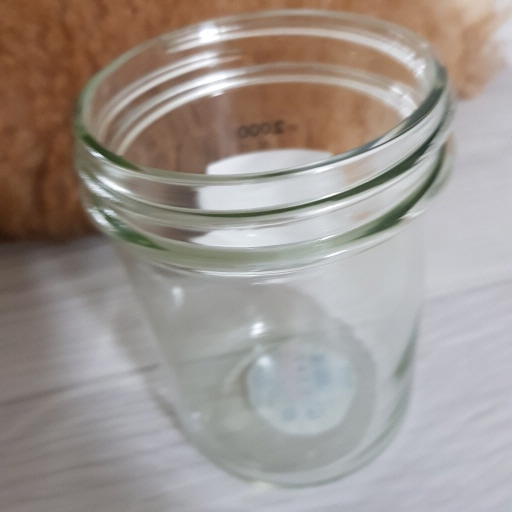Glass_5: (76, 7, 453, 480)
